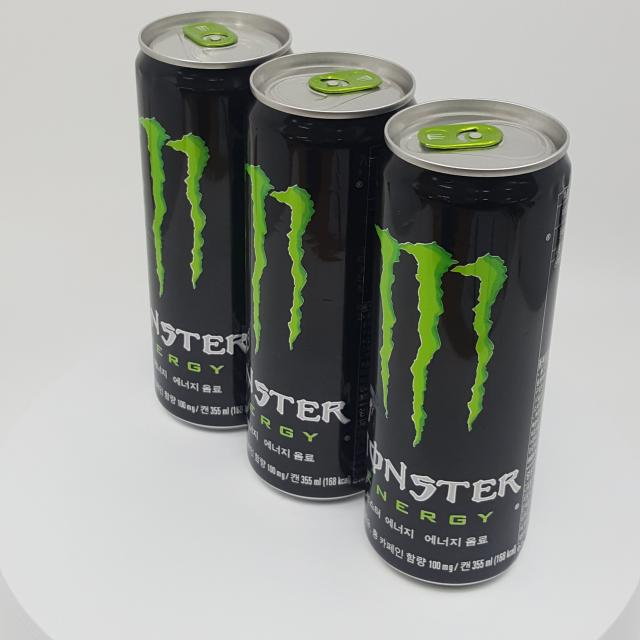--------355ML: (363, 98, 571, 586), (244, 51, 418, 501), (134, 9, 295, 430)
